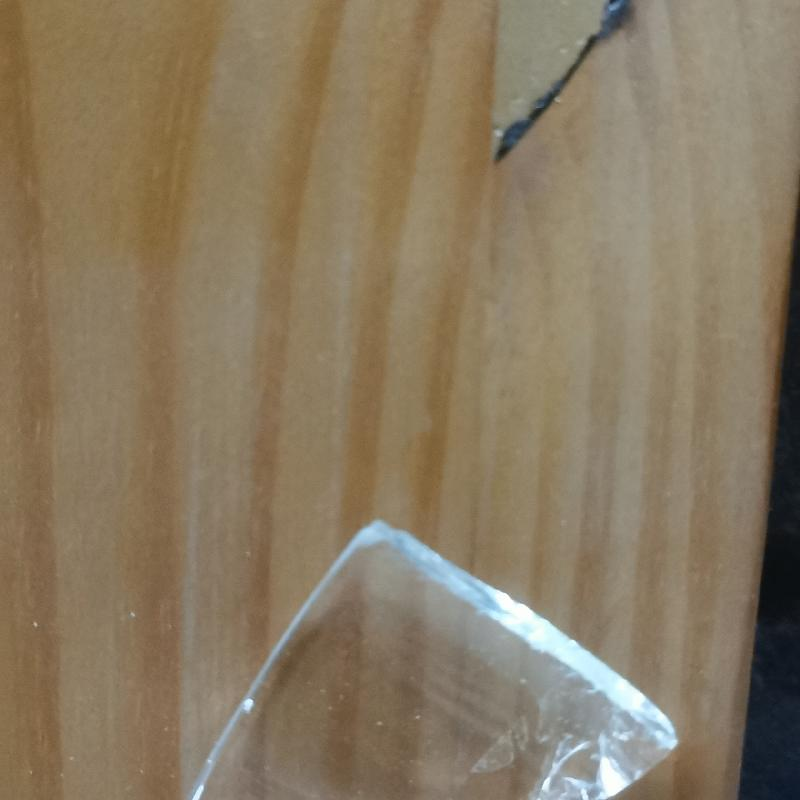glass: (165, 519, 687, 799)
